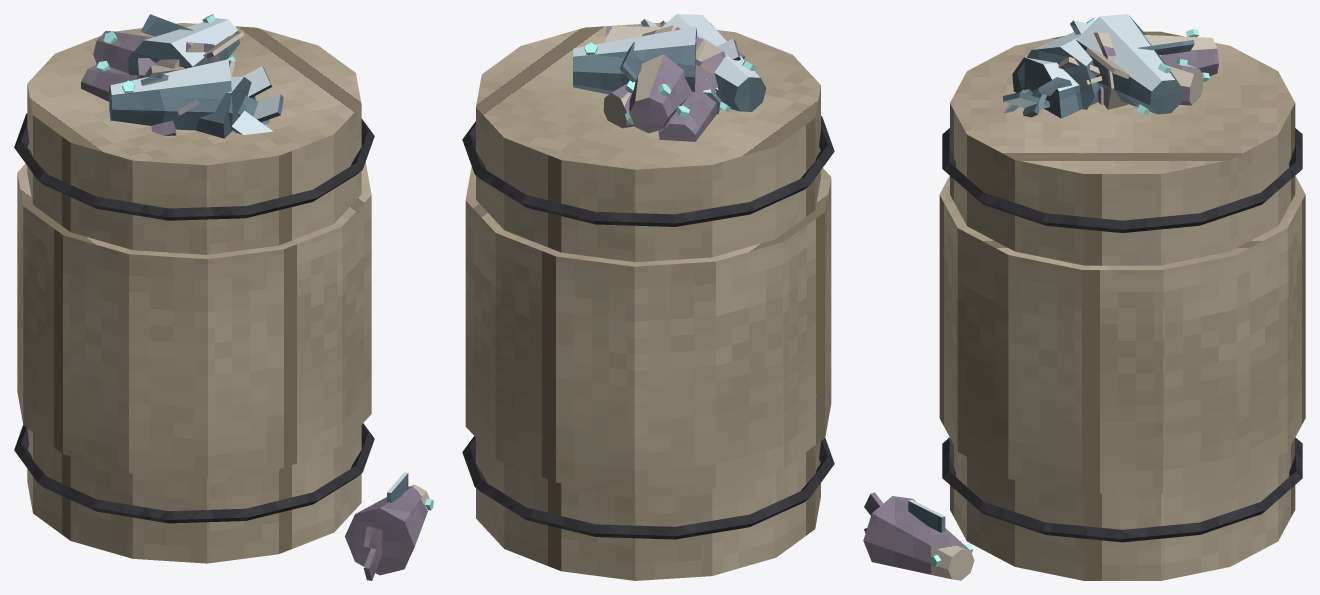
File: fish_barrel.obj
The picture shows the model from 3 angles, left to right: view 1: azimuth 30°, elevation 25°; view 2: azimuth 150°, elevation 25°; view 3: azimuth 270°, elevation 25°; orthographic projection. The views are drawn at different scales.
Parts seen in each view (by area): view 1: fish_barrel; view 2: fish_barrel; view 3: fish_barrel.
Boxes of the visible parts, x1,y1,x2,y2 form: fish_barrel: (14, 14, 433, 580); fish_barrel: (462, 14, 834, 580); fish_barrel: (863, 14, 1305, 580).
Bounding box in the file's own units: 0.642 × 0.9484 × 0.7684.
